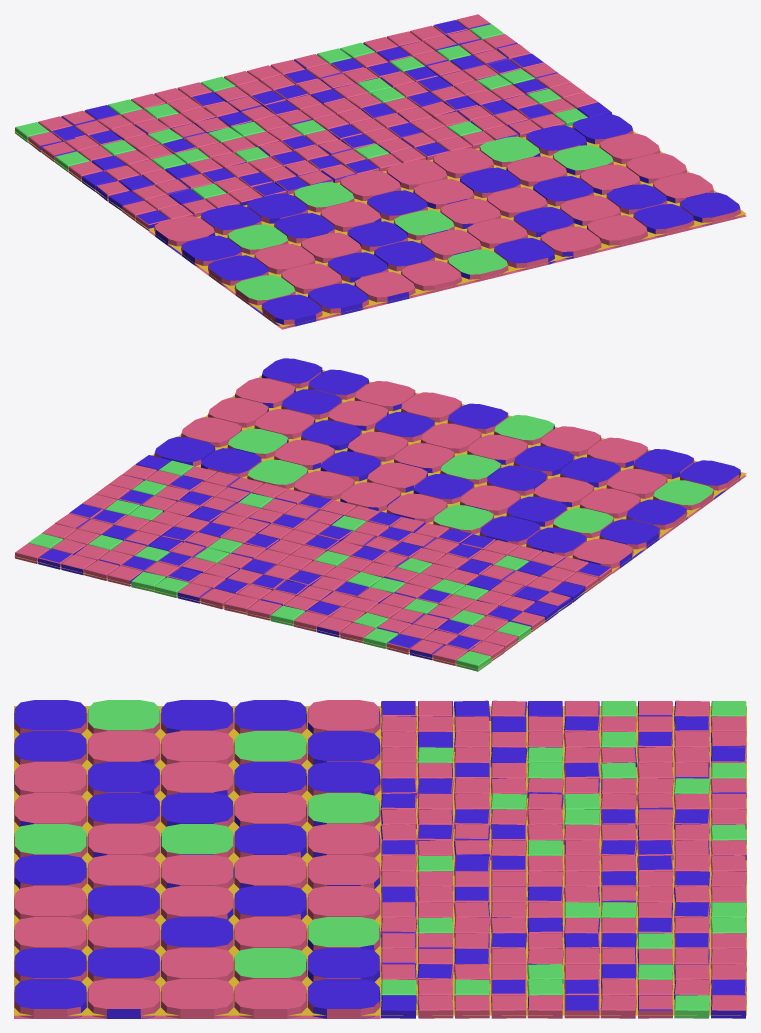
File: TeracottaTile_high.fbx
3 renders of one model, top to bottom at view 1: azimuth 30°, elevation 25°; view 2: azimuth 150°, elevation 25°; view 3: azimuth 270°, elevation 25°, orthographic. The views are drawn at different scales.
Parts seen in each view (by area): view 1: Plane.002; view 2: Plane.002; view 3: Plane.002.
Part boxes in pixels (x1,y1,x2,y2): Plane.002: [14, 14, 746, 329]; Plane.002: [14, 358, 746, 671]; Plane.002: [14, 700, 746, 1018].
Bounding box in the file's own units: 200 × 2.82 × 200.
